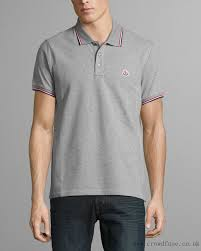C_polo shirt: (33, 23, 166, 201)
